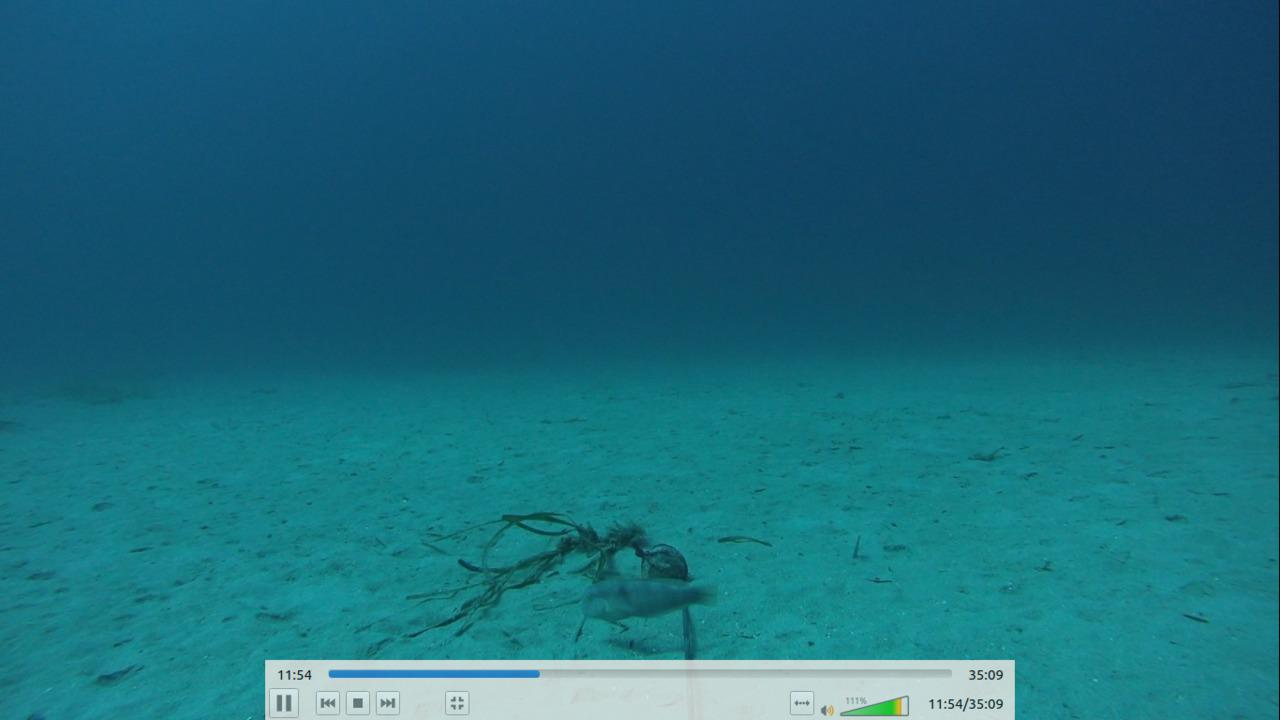raor: (581, 573, 719, 623)
